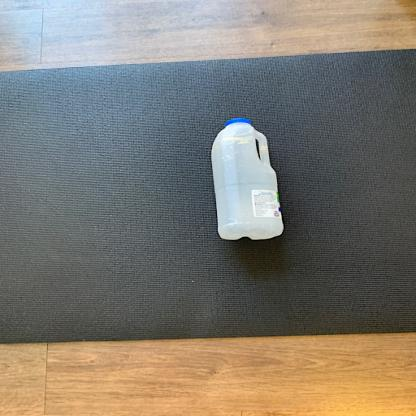trash: (210, 118, 289, 243)
